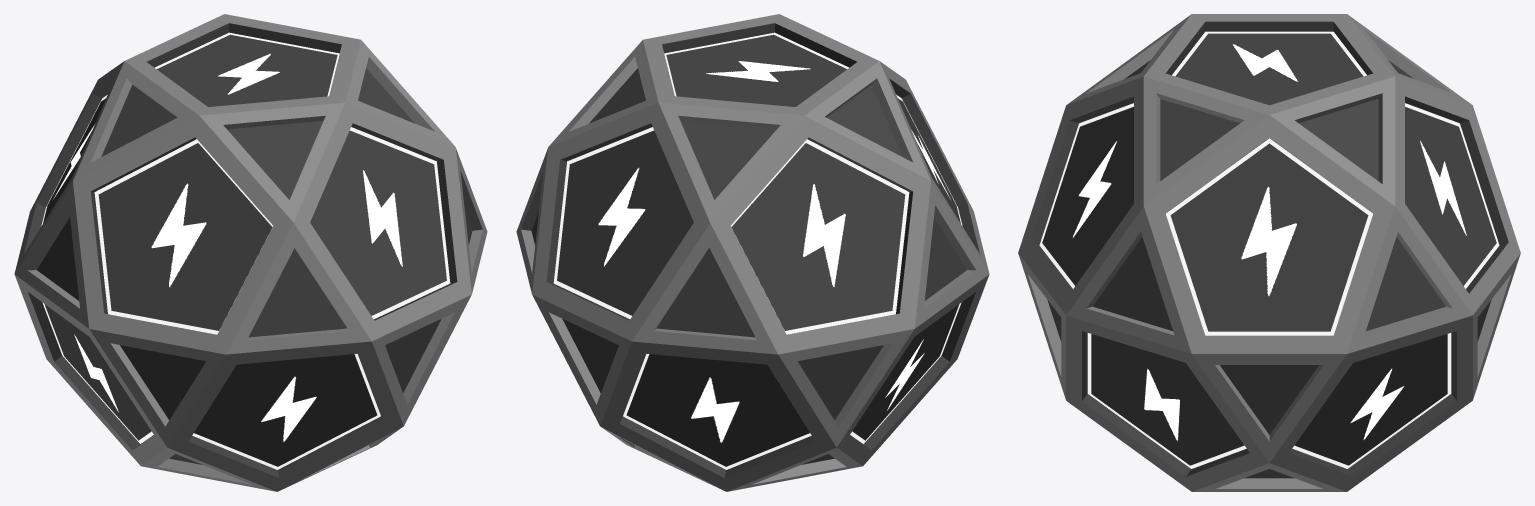
Rendered from energyico.glb.
3 renders of one model, left to right at view 1: azimuth 30°, elevation 25°; view 2: azimuth 150°, elevation 25°; view 3: azimuth 270°, elevation 25°, orthographic. The views are drawn at different scales.
Parts seen in each view (by area): view 1: EnergyIco; view 2: EnergyIco; view 3: EnergyIco.
Boxes of the visible parts, <box> form: EnergyIco: <box>14,14,487,491</box>; EnergyIco: <box>516,14,989,491</box>; EnergyIco: <box>1018,14,1520,491</box>.
Size of the model in its own units: 1.9 by 1.7 by 2.
4 materials, 1 textured.
